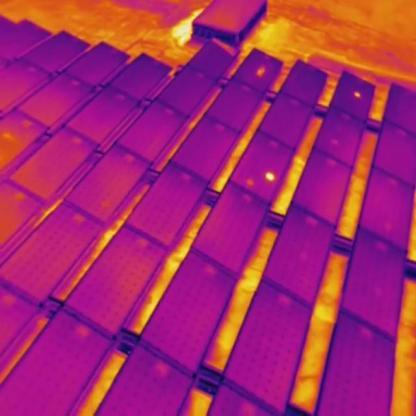anomaly: (262, 170, 276, 185), (254, 65, 267, 78), (352, 88, 362, 100)
